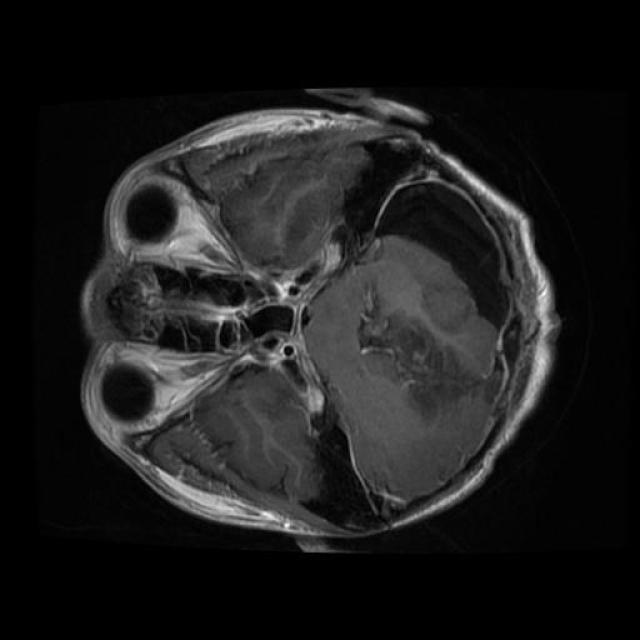Glioma: (379, 189, 507, 326)
